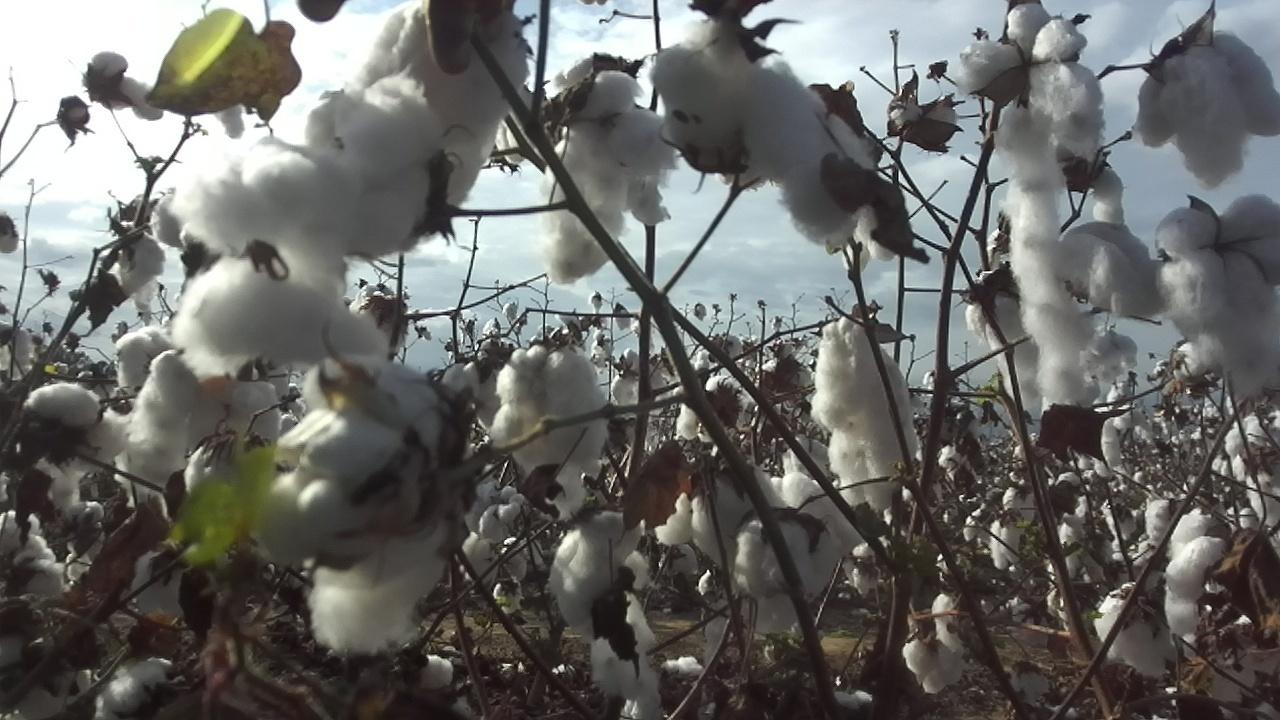cotton_ready: (259, 0, 530, 262), (962, 4, 1104, 407), (645, 19, 869, 247), (253, 360, 447, 567), (172, 153, 348, 370), (541, 55, 680, 287), (1155, 195, 1280, 394), (1136, 30, 1280, 189), (492, 344, 612, 514), (812, 317, 915, 507), (122, 357, 280, 474), (305, 527, 448, 656), (653, 469, 779, 573), (965, 270, 1046, 417), (548, 510, 645, 627), (0, 505, 65, 666), (780, 437, 859, 557), (1065, 220, 1164, 315), (732, 517, 842, 602), (27, 384, 123, 473), (1161, 509, 1227, 634), (593, 597, 659, 720), (1099, 584, 1176, 680), (904, 592, 972, 698), (810, 84, 881, 175), (1232, 412, 1280, 531), (104, 660, 179, 720), (20, 664, 99, 720), (841, 206, 897, 267), (892, 97, 957, 138)
